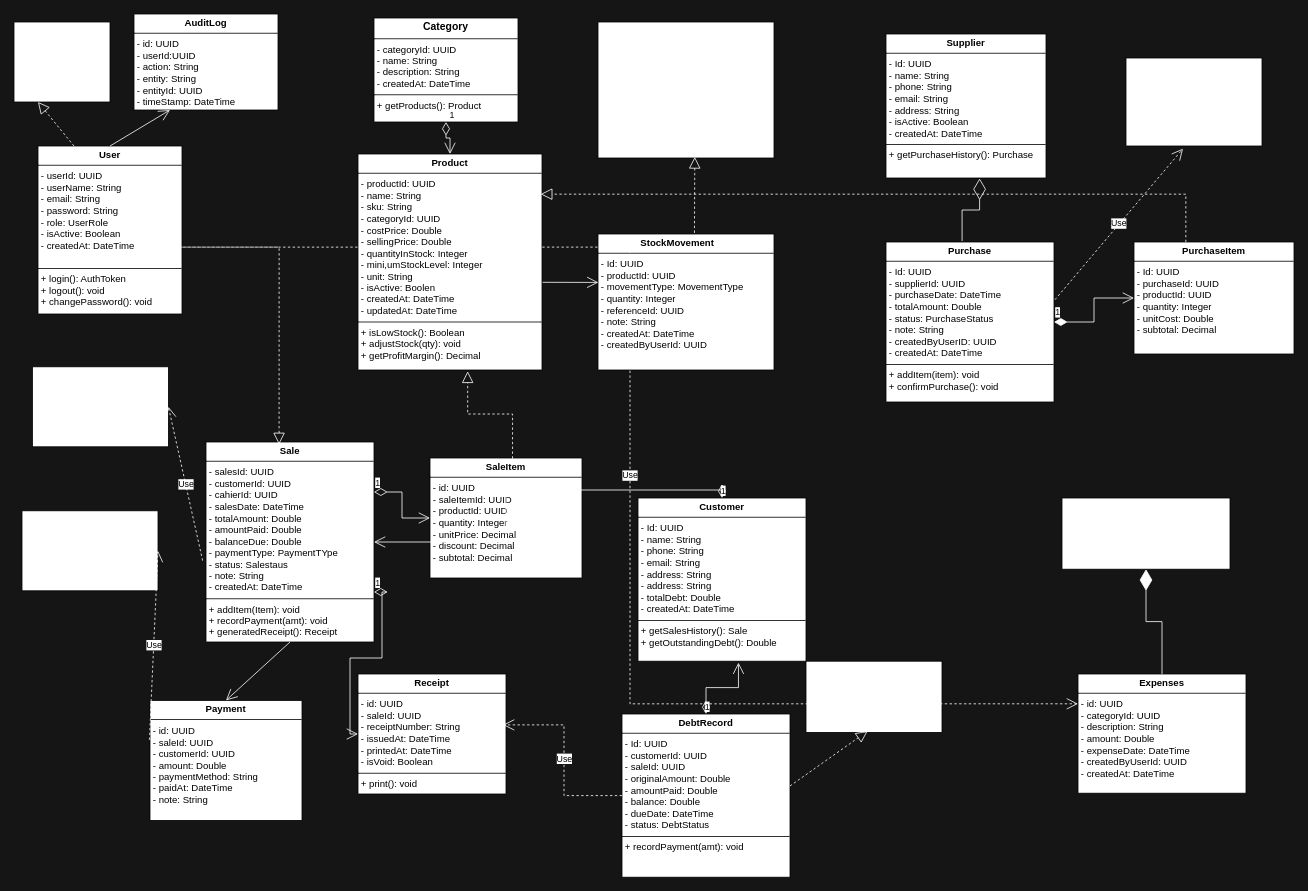
Image size: 1308x891. Some labels were removed from this diagram. The shapes that lost their labels are listed below. From the top down, each one's box as (x1, y1, x2, y2) in pixels, then its label:
(13, 21, 110, 102): UserRole OWNER MANAGER CASHIER ADMIN
(597, 21, 774, 158): MovementType PURCHASE SALE RETURN ADJUSTMENT DAMAGED EXPIRED
(1125, 57, 1262, 146): PurchaseStatus PENDING COMFIRMED CANCELLED RETURNED
(32, 366, 168, 447): PaymentType CASH CREDIT PARTIAL TRANSFER
(21, 510, 158, 591): SaleStatus COMPLETED PENDING VOIDED
(1061, 497, 1230, 569): ExpenseCategory - id: UUID - name: String - description: String
(805, 660, 942, 732): DebtStatus OUTSTANDING PARTIALLY_PAID SETTLED
